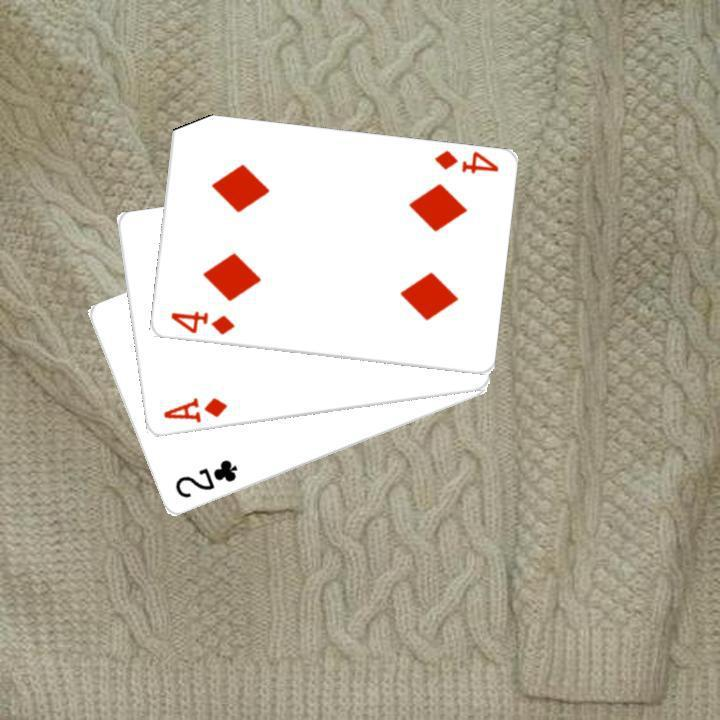2: (170, 455, 239, 501)
4: (165, 307, 236, 338), (429, 146, 500, 176)
A: (159, 394, 229, 425)
